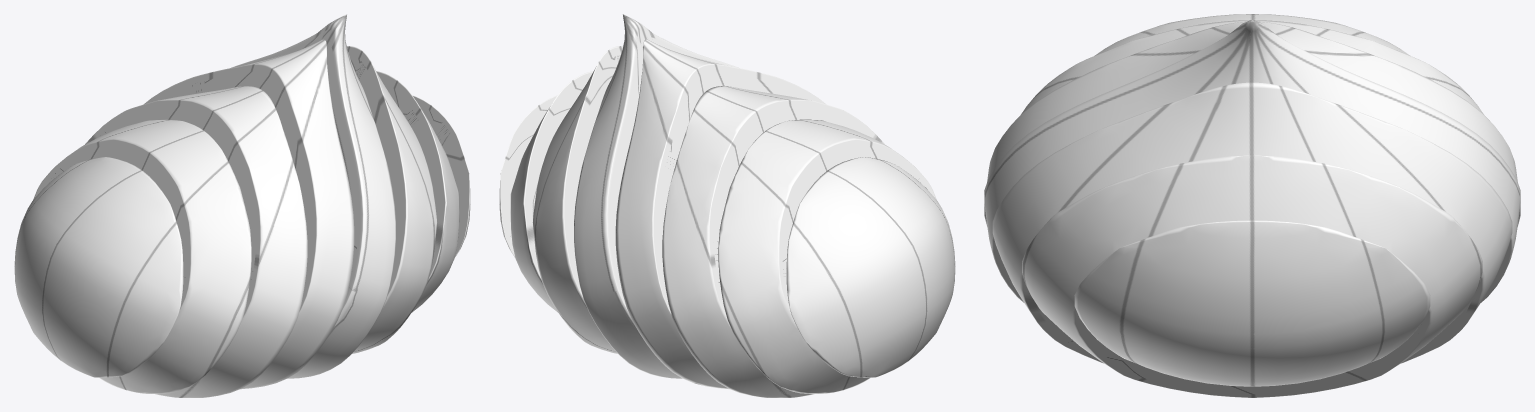
File: OnionChopped.fbx
The picture shows the model from 3 angles, left to right: view 1: azimuth 30°, elevation 25°; view 2: azimuth 150°, elevation 25°; view 3: azimuth 270°, elevation 25°; orthographic projection. The views are drawn at different scales.
Parts seen in each view (by area): view 1: Sphere.001, Sphere.008, Sphere.007, Sphere.006, Sphere.005, Sphere.004, Sphere.003, Sphere.018, Sphere.023, Sphere.021, Sphere.016, Sphere.014 (+3 smaller); view 2: Sphere.001, Sphere.008, Sphere.007, Sphere.006, Sphere.005, Sphere.004, Sphere.003, Sphere.018, Sphere.023, Sphere.021, Sphere.016, Sphere.014 (+3 smaller); view 3: Sphere.002, Sphere.003, Sphere.004, Sphere.005, Sphere.006, Sphere.007, Sphere.010, Sphere.008, Sphere.013.
Part boxes in pixels (x1,y1,x2,y2): Sphere.001: (14, 157, 183, 377); Sphere.008: (33, 119, 251, 393); Sphere.007: (85, 86, 307, 397); Sphere.006: (144, 39, 354, 389); Sphere.005: (230, 14, 395, 378); Sphere.004: (346, 46, 437, 353); Sphere.003: (376, 71, 459, 312); Sphere.018: (160, 71, 311, 282); Sphere.023: (99, 105, 256, 294); Sphere.021: (42, 144, 187, 294); Sphere.016: (280, 29, 359, 281); Sphere.014: (349, 55, 400, 262); Sphere.001: (786, 157, 955, 377); Sphere.008: (718, 119, 936, 393); Sphere.007: (662, 86, 884, 397); Sphere.006: (615, 39, 825, 389); Sphere.005: (574, 14, 739, 378); Sphere.004: (532, 46, 623, 353); Sphere.003: (510, 71, 593, 312); Sphere.018: (658, 71, 809, 282); Sphere.023: (713, 105, 870, 294); Sphere.021: (782, 144, 927, 294); Sphere.016: (610, 29, 689, 281); Sphere.014: (569, 55, 620, 262); Sphere.002: (1074, 220, 1430, 386); Sphere.003: (1022, 155, 1482, 397); Sphere.004: (992, 82, 1512, 363); Sphere.005: (984, 20, 1520, 302); Sphere.006: (984, 21, 1520, 226); Sphere.007: (1021, 20, 1483, 114); Sphere.010: (1082, 323, 1422, 394); Sphere.008: (1095, 14, 1409, 55); Sphere.013: (1032, 298, 1472, 351).
Size of the model in its own units: 184 by 145 by 164.
